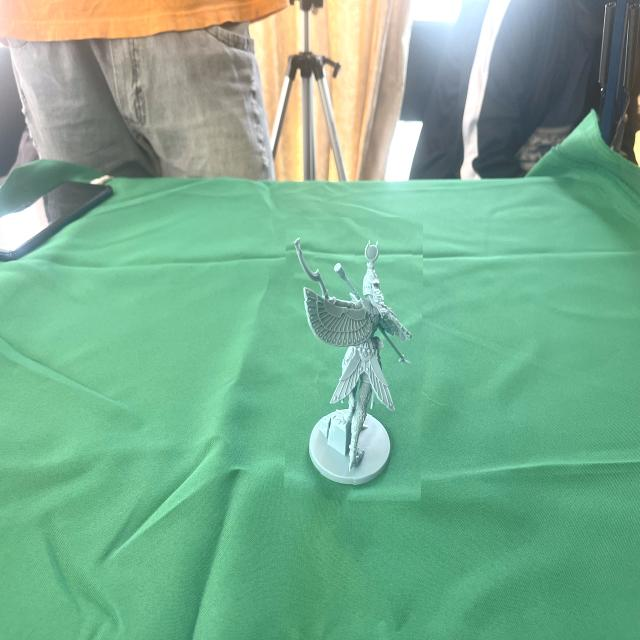isis: (285, 217, 422, 500)
